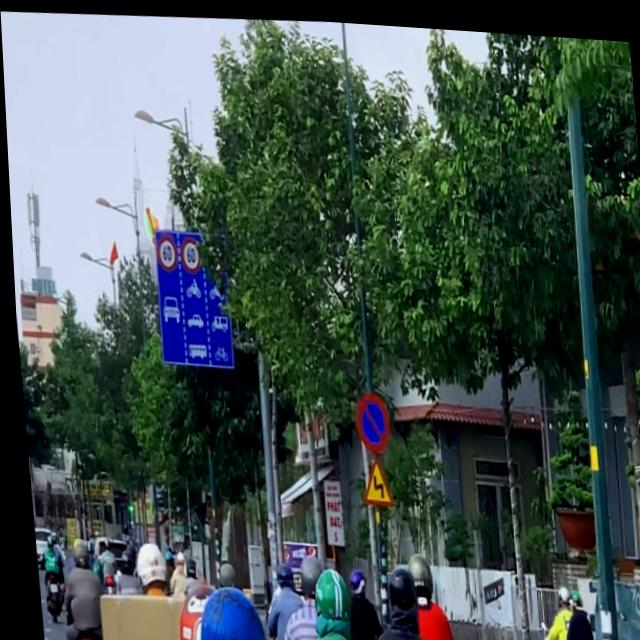Cam do xe: (349, 387, 388, 449)
Nhieu cho ngoat lien tiep ben trai: (355, 450, 389, 503)
Toc do toi da cho phep: (153, 233, 176, 270), (177, 234, 199, 271)
